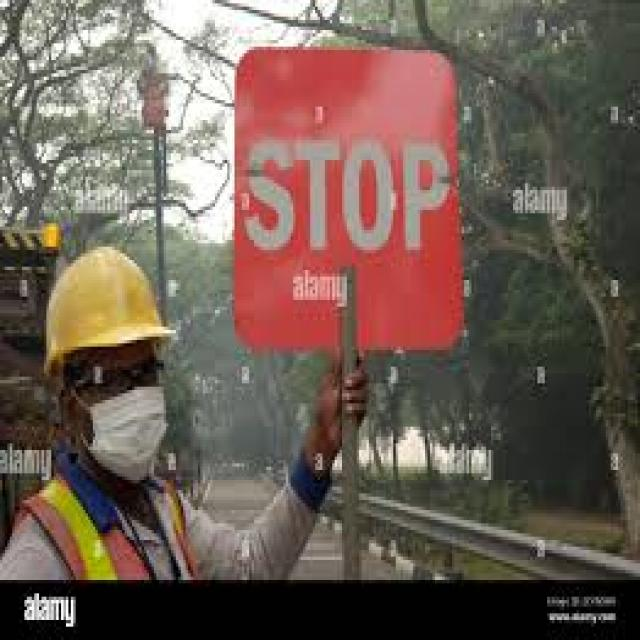stop-sign: (226, 59, 467, 351)
